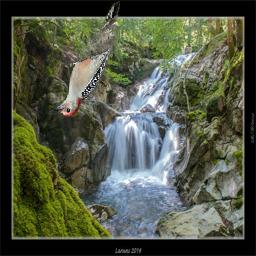Woodpecker: (50, 1, 121, 117)
